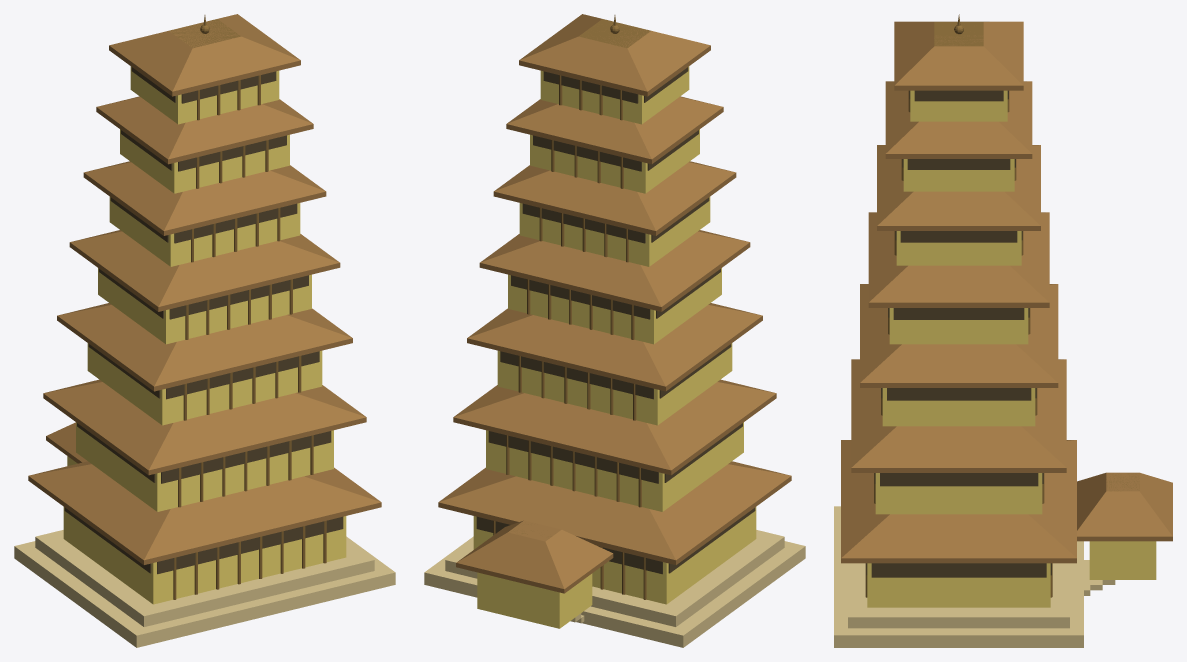
The model's file is royal palace.glb.
3 views of the same model, side by side, from view 1: azimuth 30°, elevation 25°; view 2: azimuth 150°, elevation 25°; view 3: azimuth 270°, elevation 25° (orthographic). The views are drawn at different scales.
Parts seen in each view (by area): view 1: FL1_Roof, FL2_Roof, FL3_Roof, FL4_Roof, Plat1, Plat2, FL1_W, FL7_Roof, FL5_Roof, FL2_W, FL6_Roof, FL3_W (+20 smaller); view 2: FL1_Roof, FL2_Roof, FL3_Roof, FL4_Roof, FL5_Roof, FL7_Roof, FL2_W, FL6_Roof, Plat1, PorchRoof, FL3_W, Plat2 (+22 smaller); view 3: FL1_Roof, FL2_Roof, FL3_Roof, FL4_Roof, FL5_Roof, FL7_Roof, Plat1, FL6_Roof, Plat2, PorchRoof, FL1_W, FL2_W (+22 smaller).
Boxes of the visible parts, bbox=[...] form: FL1_Roof: bbox=[28, 461, 380, 560]; FL2_Roof: bbox=[43, 379, 366, 470]; FL3_Roof: bbox=[57, 303, 352, 386]; FL4_Roof: bbox=[70, 230, 339, 306]; Plat1: bbox=[14, 536, 395, 647]; Plat2: bbox=[35, 530, 374, 626]; FL1_W: bbox=[63, 507, 346, 604]; FL7_Roof: bbox=[109, 14, 300, 91]; FL5_Roof: bbox=[84, 161, 325, 230]; FL2_W: bbox=[76, 422, 333, 511]; FL6_Roof: bbox=[97, 96, 312, 159]; FL3_W: bbox=[87, 343, 322, 425]; FL1_Roof: bbox=[439, 461, 791, 560]; FL2_Roof: bbox=[453, 379, 776, 470]; FL3_Roof: bbox=[467, 303, 762, 386]; FL4_Roof: bbox=[480, 230, 749, 306]; FL5_Roof: bbox=[494, 161, 735, 230]; FL7_Roof: bbox=[519, 14, 710, 91]; FL2_W: bbox=[486, 422, 743, 511]; FL6_Roof: bbox=[507, 96, 722, 159]; Plat1: bbox=[424, 536, 805, 647]; PorchRoof: bbox=[456, 520, 612, 589]; FL3_W: bbox=[497, 343, 732, 425]; Plat2: bbox=[445, 530, 784, 626]; FL1_Roof: bbox=[841, 440, 1076, 558]; FL2_Roof: bbox=[851, 359, 1066, 467]; FL3_Roof: bbox=[860, 284, 1058, 382]; FL4_Roof: bbox=[868, 212, 1049, 302]; FL5_Roof: bbox=[877, 145, 1040, 225]; FL7_Roof: bbox=[894, 21, 1023, 85]; Plat1: bbox=[834, 506, 1083, 647]; FL6_Roof: bbox=[885, 81, 1032, 153]; Plat2: bbox=[848, 563, 1069, 628]; PorchRoof: bbox=[1077, 472, 1172, 536]; FL1_W: bbox=[867, 563, 1050, 607]; FL2_W: bbox=[875, 473, 1042, 514].
Size of what is drawn, in the model's own units: 11 by 22.63 by 12.2.
